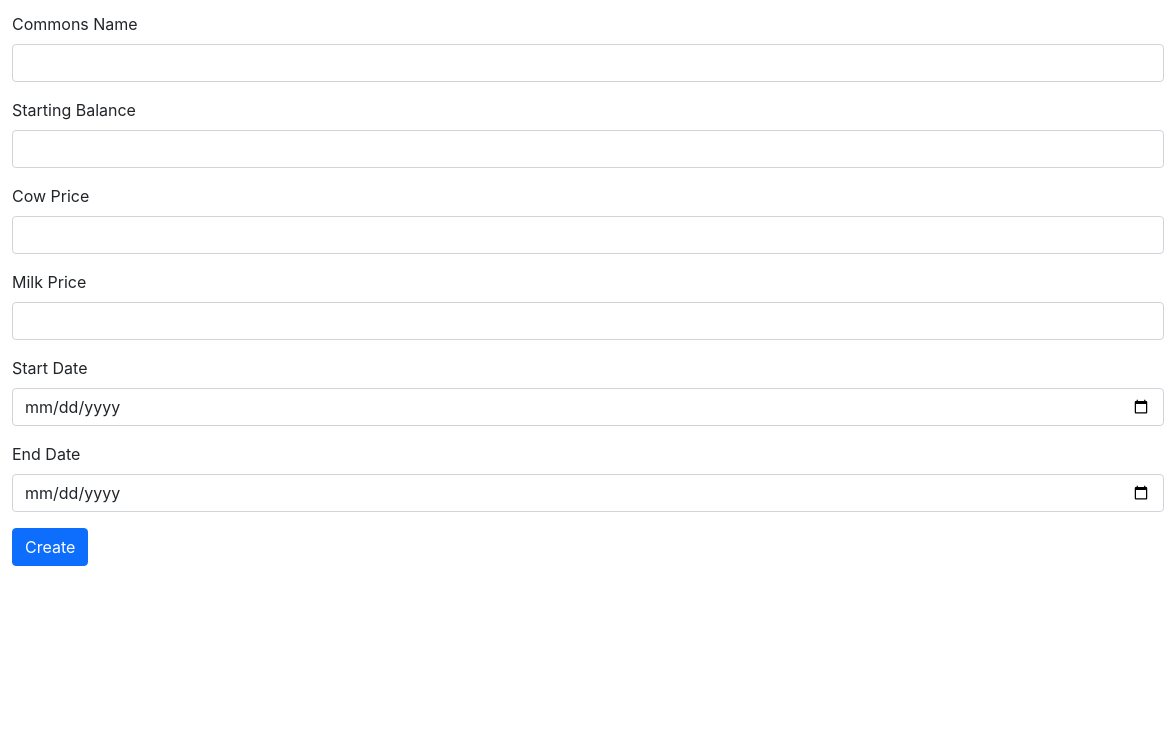
Test case: CreateCommonsForm › has validation errors for required fields
Click the button: (50,547) [12, 528, 88, 566]
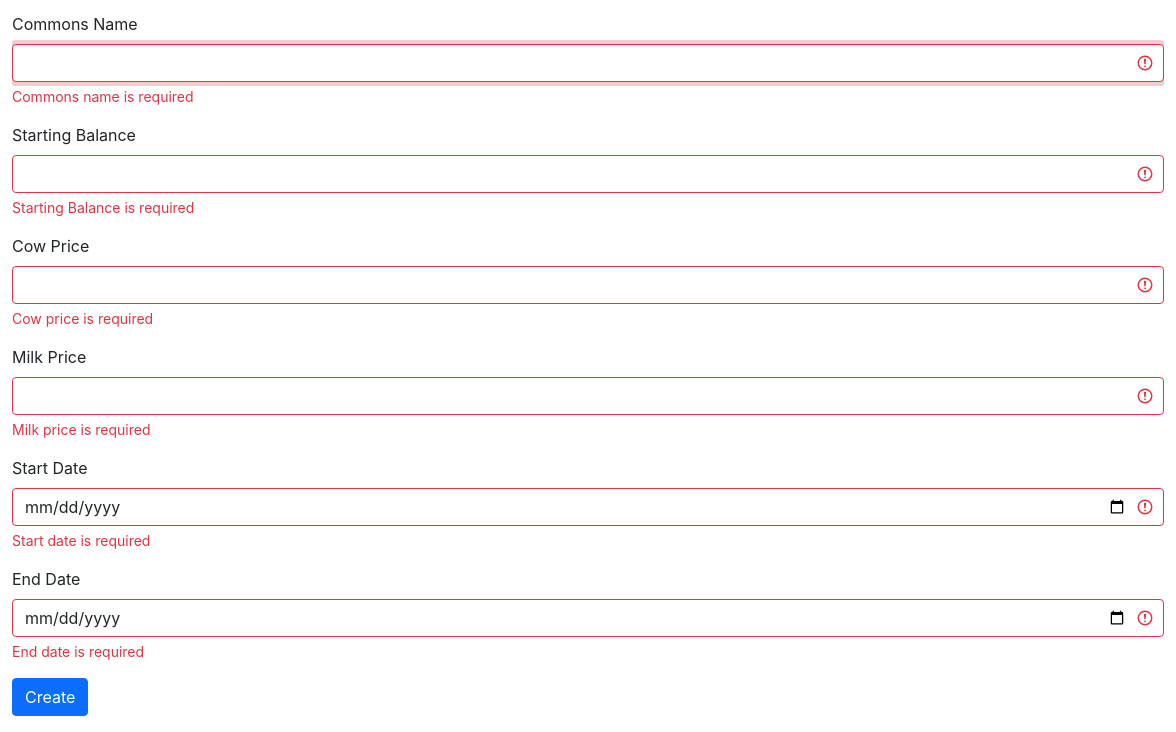
Check: the text "Commons name is required" is shown, box [12, 88, 194, 105]
Check: the text "Starting Balance is required" is shown, box [12, 199, 194, 216]
Check: the text "Cow price is required" is shown, box [12, 310, 153, 327]
